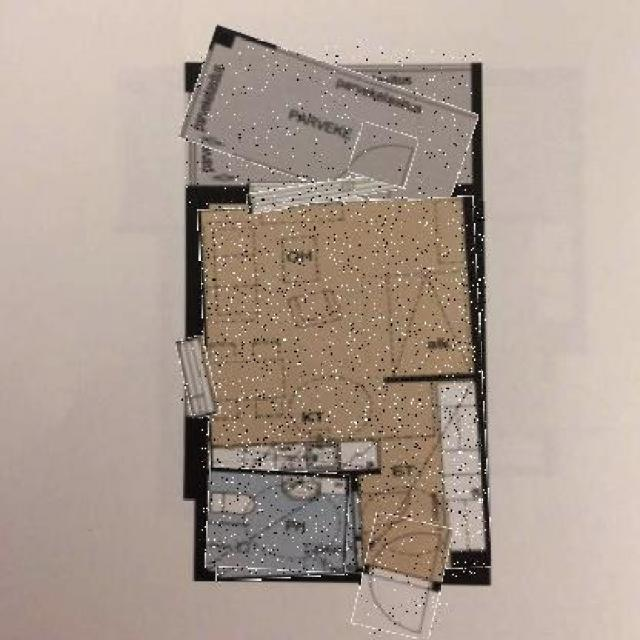door: (357, 517, 448, 637), (351, 126, 415, 185)
window: (246, 178, 408, 210), (180, 337, 217, 418)
zone: (202, 200, 486, 577), (184, 46, 473, 205), (206, 469, 349, 571)
